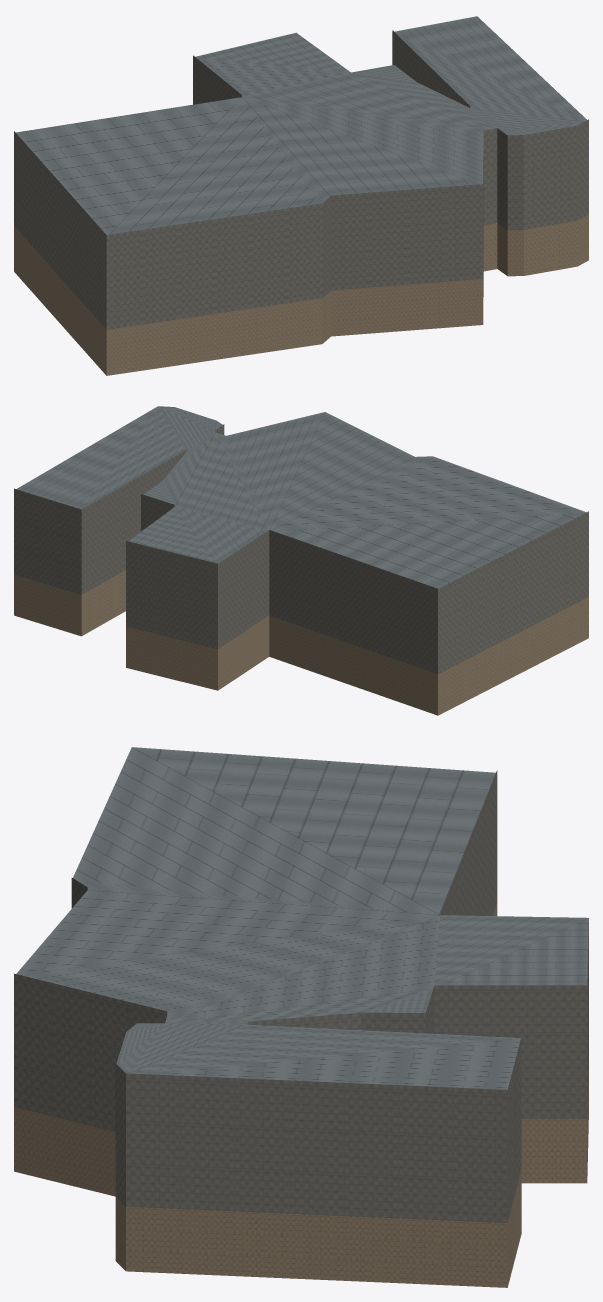
File: core_0028.gltf
3 renders of one model, top to bottom at view 1: azimuth 30°, elevation 25°; view 2: azimuth 150°, elevation 25°; view 3: azimuth 270°, elevation 25°, orthographic. The views are drawn at different scales.
Parts seen in each view (by area): view 1: core_0028; view 2: core_0028; view 3: core_0028.
Part boxes in pixels (x1,y1,x2,y2): core_0028: (14, 16, 588, 375); core_0028: (14, 406, 588, 715); core_0028: (14, 747, 588, 1287).
Bounding box in the file's own units: 58.35 × 15.58 × 41.
3 materials, 3 textured.
